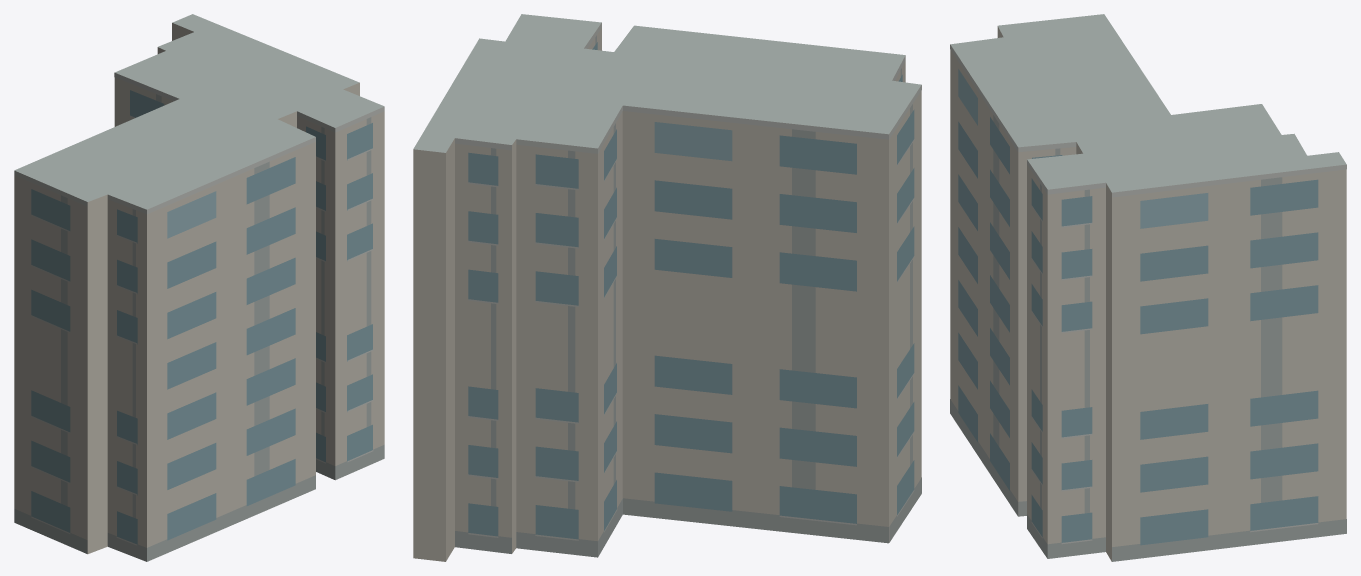
The model's file is survey-upis-32645953.glb.
The picture shows the model from 3 angles, left to right: view 1: azimuth 30°, elevation 25°; view 2: azimuth 150°, elevation 25°; view 3: azimuth 270°, elevation 25°; orthographic projection. The views are drawn at different scales.
Visible parts, largest first — view 1: survey-upis-32645953.tmp; view 2: survey-upis-32645953.tmp; view 3: survey-upis-32645953.tmp.
Boxes of the visible parts, bbox=[...] form: survey-upis-32645953.tmp: bbox=[14, 14, 384, 561]; survey-upis-32645953.tmp: bbox=[413, 14, 921, 561]; survey-upis-32645953.tmp: bbox=[950, 14, 1346, 561].
Bounding box in the file's own units: 19 × 18.3 × 17.82.
